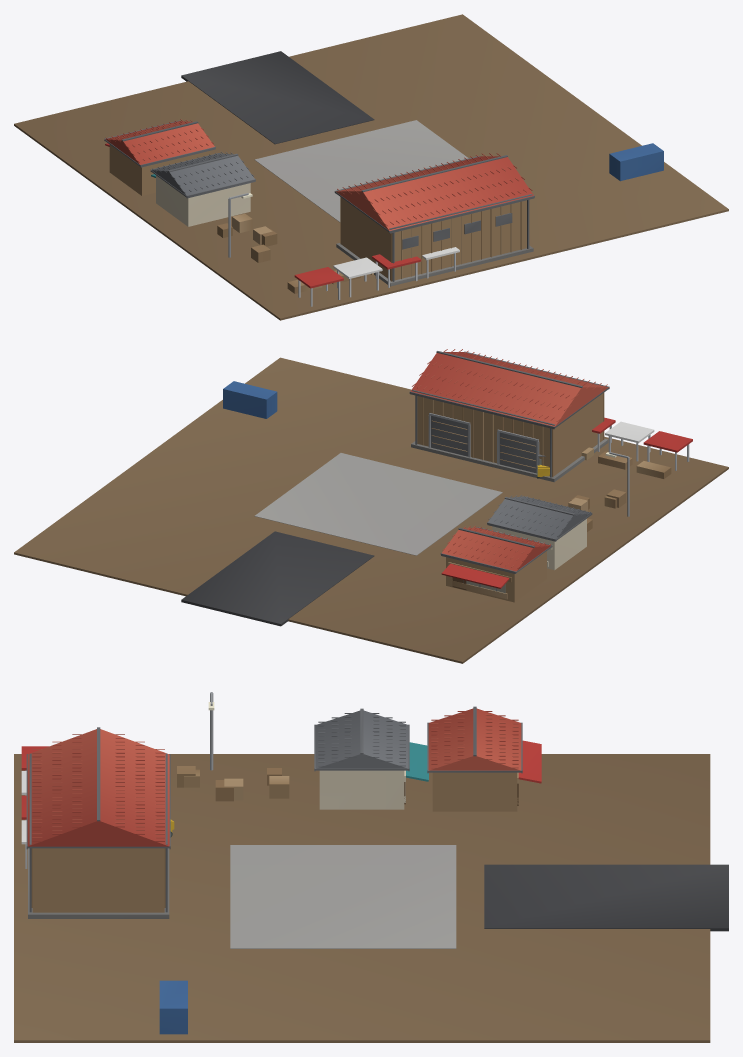
File: Market_P1.fbx
3 views of the same model, one above another, from view 1: azimuth 30°, elevation 25°; view 2: azimuth 150°, elevation 25°; view 3: azimuth 270°, elevation 25° (orthographic). The views are drawn at different scales.
Visible parts, largest first — view 1: Market.Pad, Market.WH1, Market.Shop1, Market.Shop0, Market.Goods, Market.Stalls; view 2: Market.Pad, Market.WH1, Market.Shop0, Market.Shop1, Market.Stalls, Market.Goods; view 3: Market.Pad, Market.WH1, Market.Shop0, Market.Shop1, Market.Goods, Market.Stalls.
Boxes of the visible parts, x1,y1,x2,y2 form: Market.Pad: (14,14,728,320); Market.WH1: (334,153,534,286); Market.Shop1: (150,152,255,226); Market.Shop0: (104,119,215,195); Market.Goods: (217,143,663,262); Market.Stalls: (287,247,459,306); Market.Pad: (14,357,728,663); Market.WH1: (409,349,609,482); Market.Shop0: (440,526,552,602); Market.Shop1: (487,495,592,570); Market.Stalls: (581,417,692,478); Market.Goods: (223,381,626,531); Market.Pad: (14,754,728,1042); Market.WH1: (26,727,170,918); Market.Shop0: (427,706,541,811); Market.Shop1: (314,708,428,809); Market.Goods: (159,766,289,1034); Market.Stalls: (21,746,48,868).
Bounding box in the file's own units: 7200 × 1199 × 7600.
